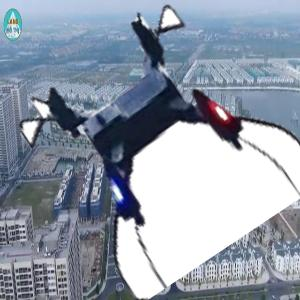drone: (33, 18, 285, 270)
